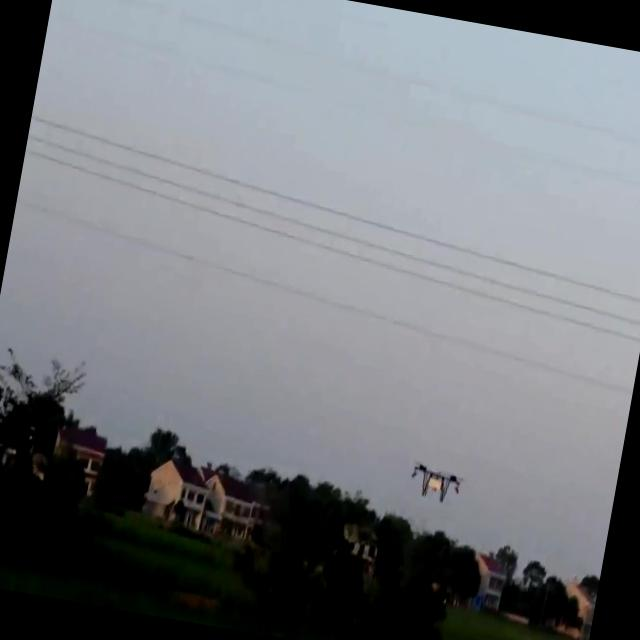drone: (406, 458, 468, 509)
